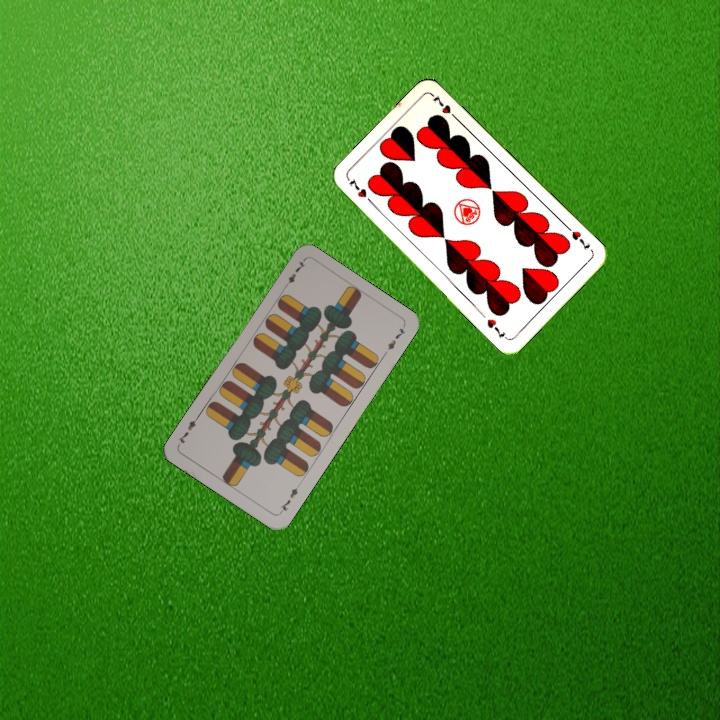E7: (279, 256, 308, 292), (276, 480, 303, 516)
H7: (345, 175, 376, 208), (562, 222, 593, 253)
